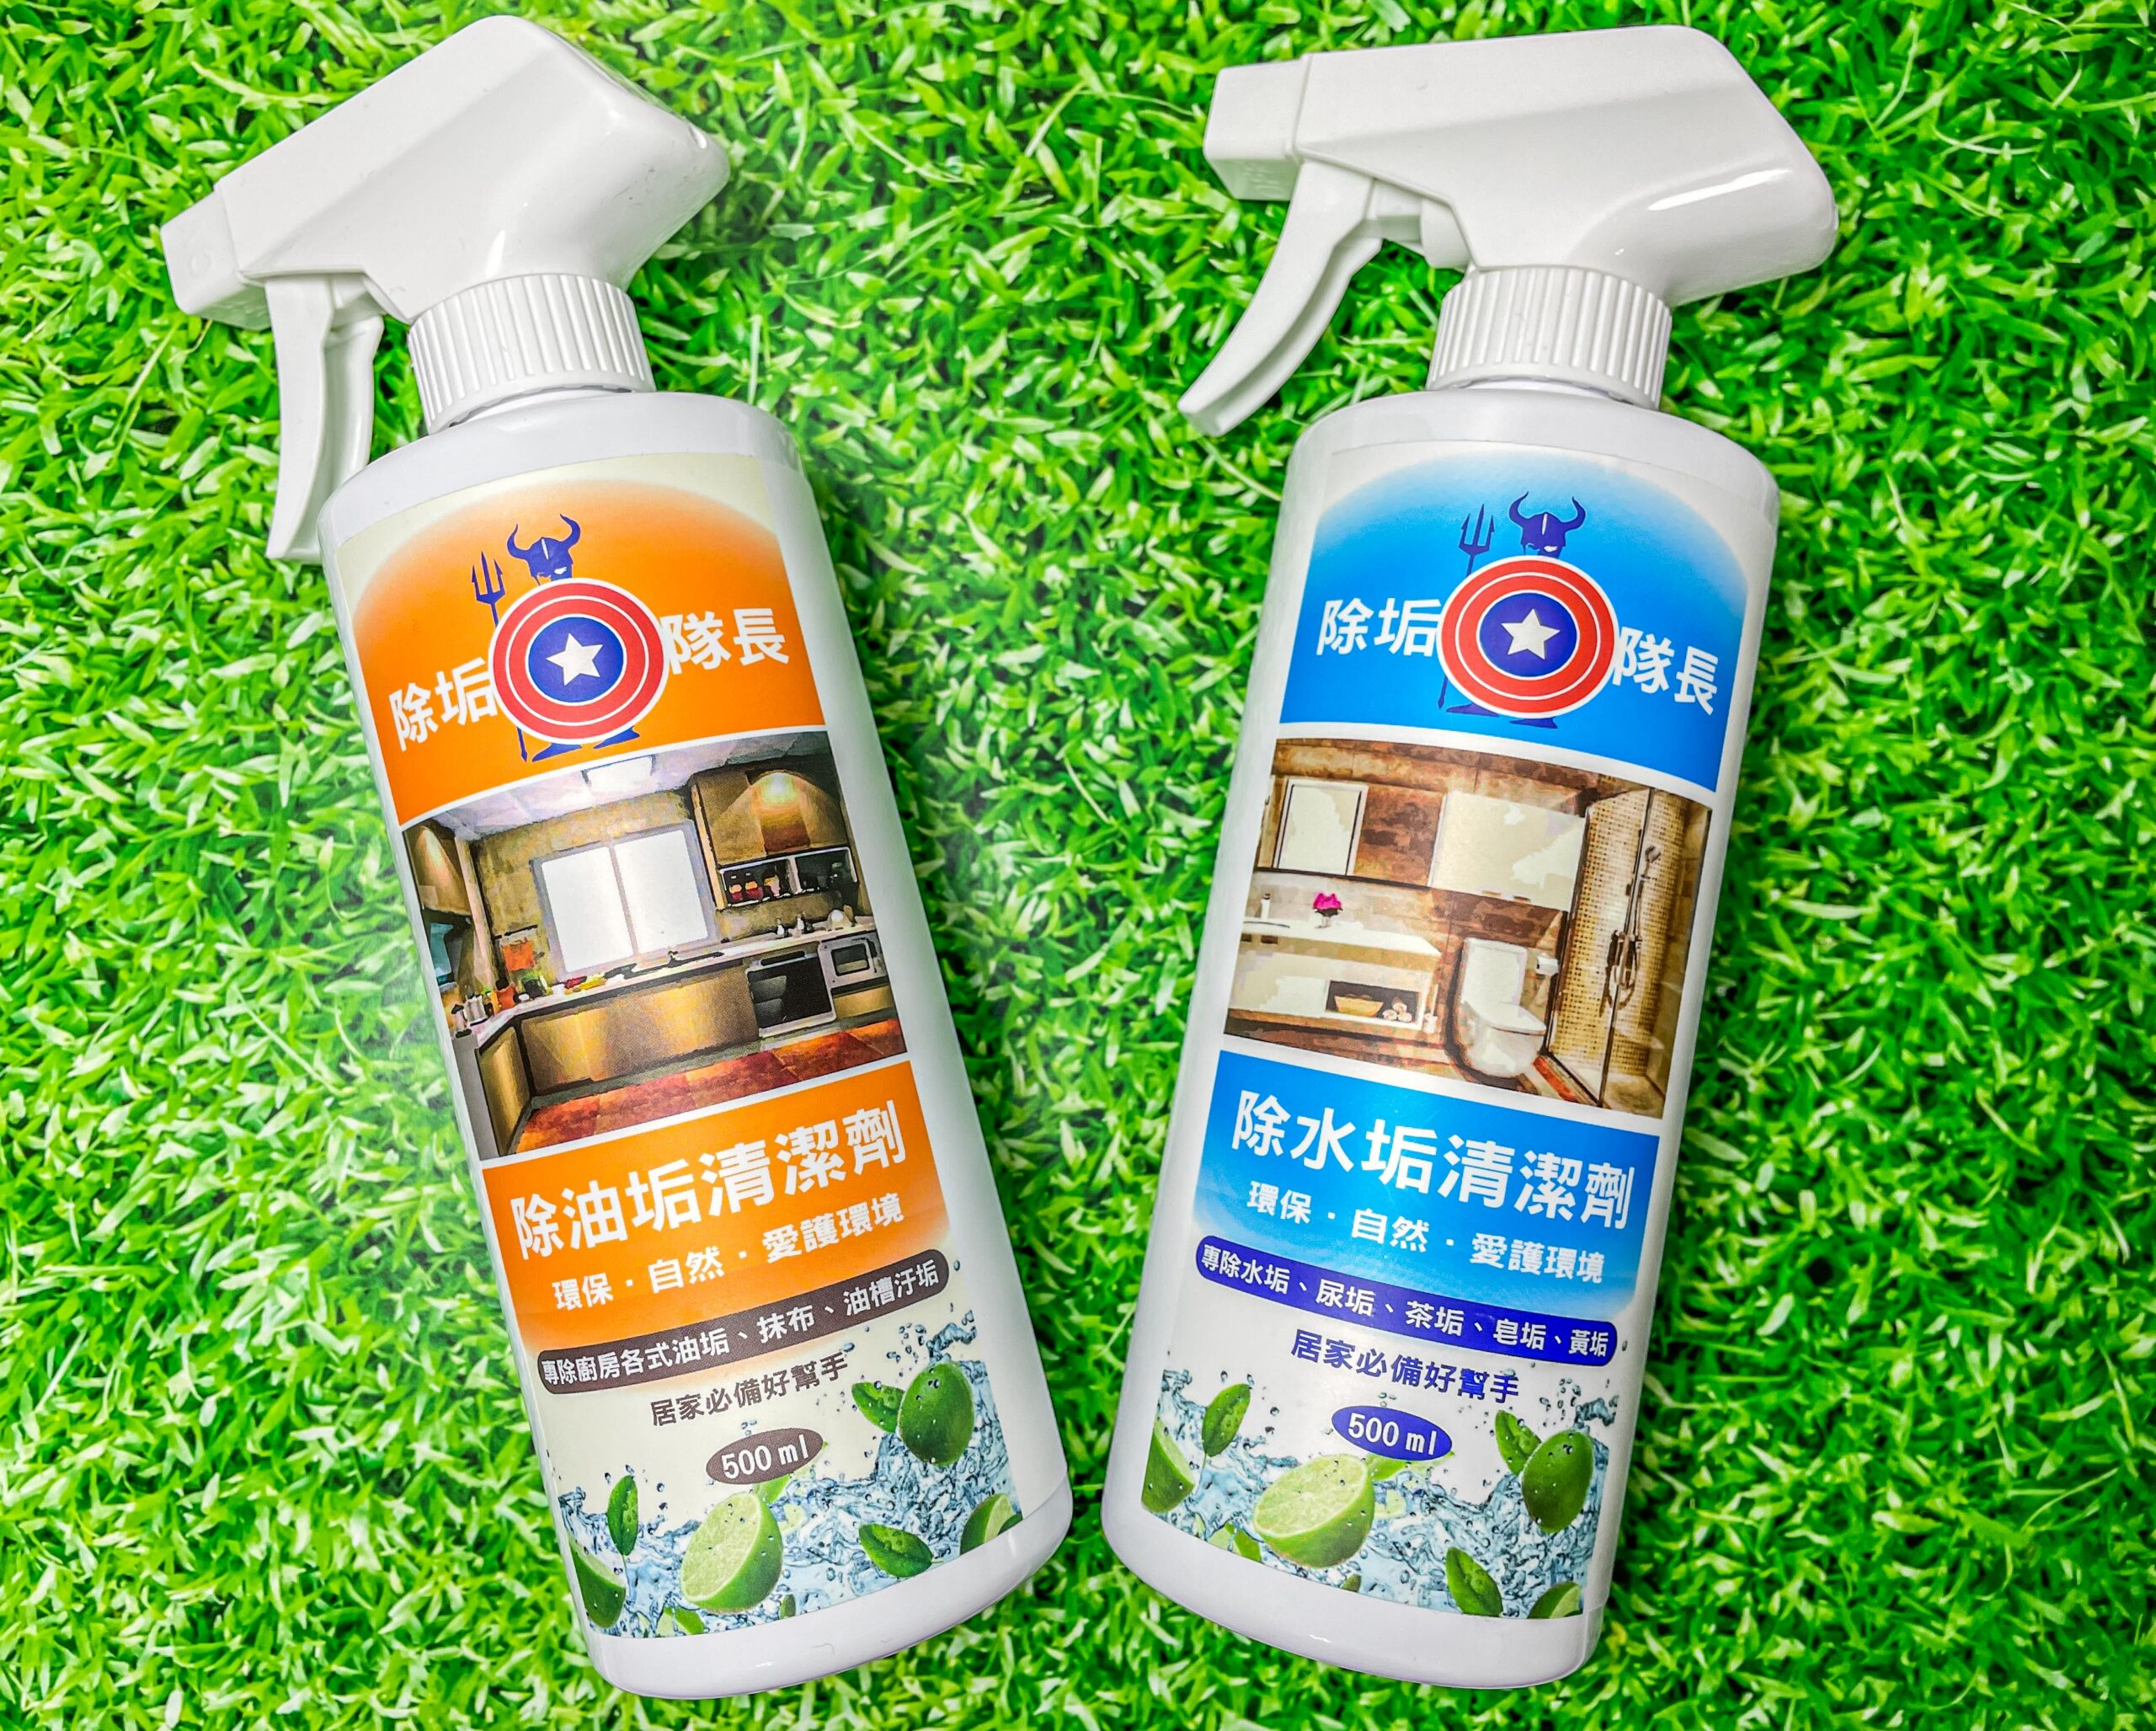cleaner: (136, 9, 1088, 1712), (1077, 16, 1845, 1692)
